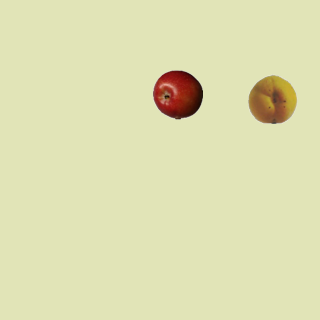Apple Braeburn: (152, 69, 202, 119)
Peach 2: (247, 73, 297, 123)
